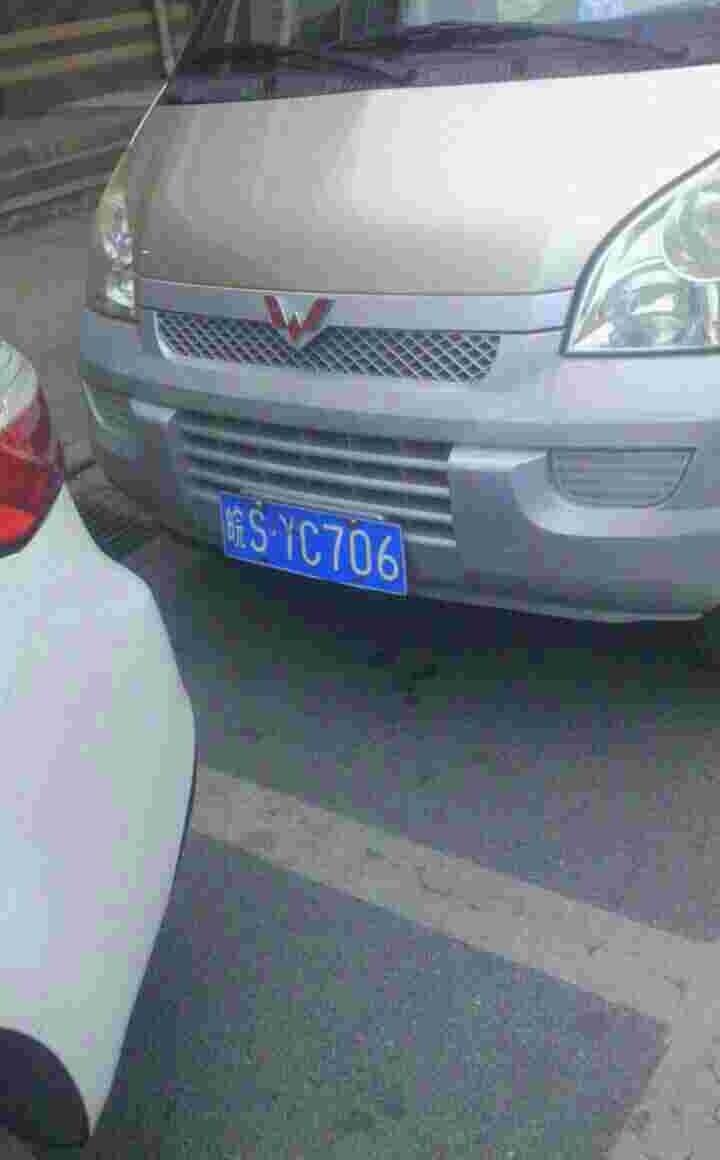plate: (215, 484, 410, 600)
